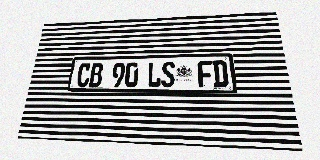0: (124, 62, 139, 87)
9: (111, 62, 126, 87)
B: (89, 63, 104, 87)
C: (76, 63, 91, 87)
D: (212, 60, 229, 87)
F: (197, 61, 213, 87)
L: (147, 62, 161, 87)
S: (161, 61, 175, 87)
